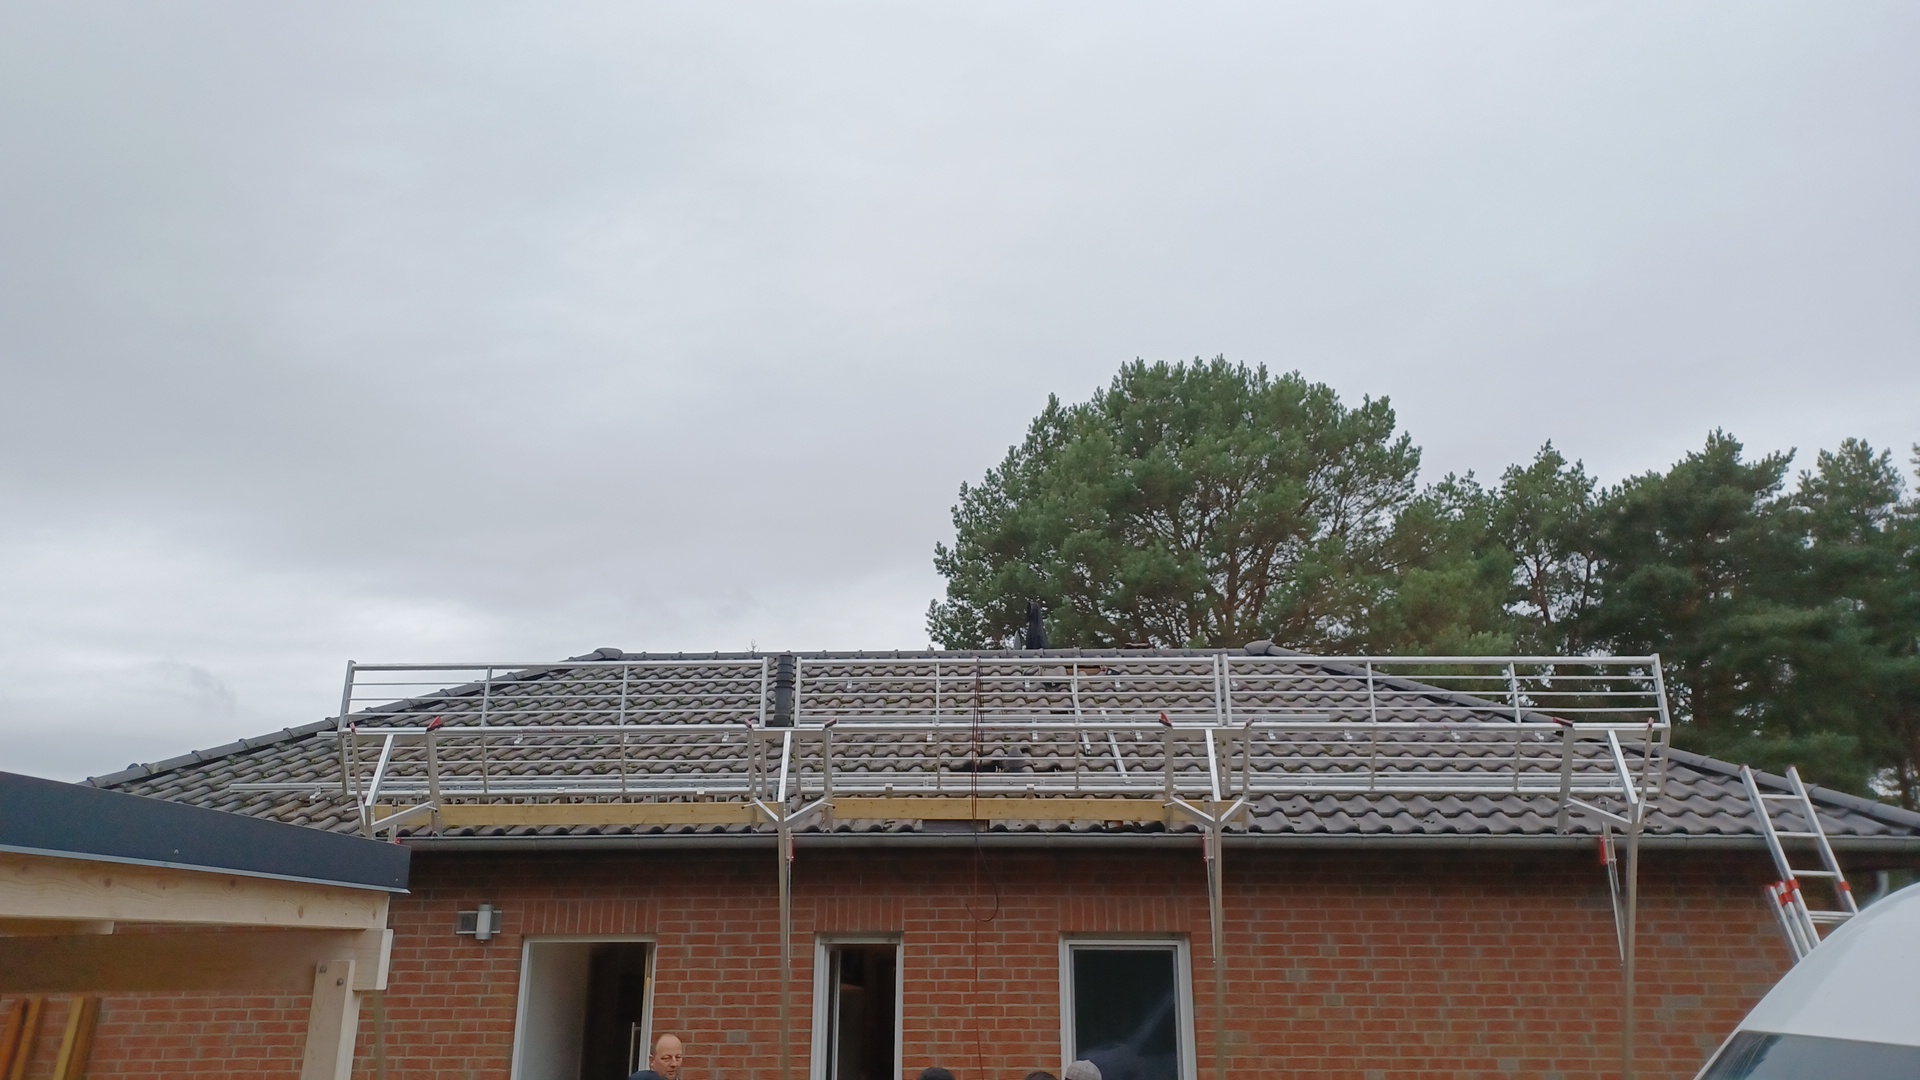hook: (1609, 781, 1621, 800), (310, 785, 320, 804), (1305, 781, 1316, 800), (804, 781, 812, 799), (1534, 731, 1545, 742), (513, 732, 524, 745), (1342, 729, 1353, 741), (922, 781, 928, 798), (1267, 729, 1276, 741), (1451, 731, 1460, 742), (1114, 676, 1121, 692), (1230, 678, 1238, 691), (1039, 779, 1044, 799), (926, 728, 932, 742), (1134, 731, 1142, 742), (847, 678, 852, 692), (723, 732, 729, 742), (1025, 678, 1030, 691), (1033, 731, 1038, 742), (624, 732, 629, 742), (1261, 715, 1267, 723), (1130, 715, 1135, 724), (1033, 716, 1038, 723)
